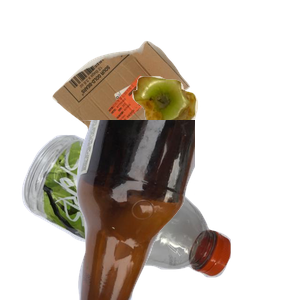cardboard: (50, 38, 233, 184)
glass: (60, 120, 300, 300)
plastic: (19, 132, 242, 300)
trash: (130, 74, 300, 199)
